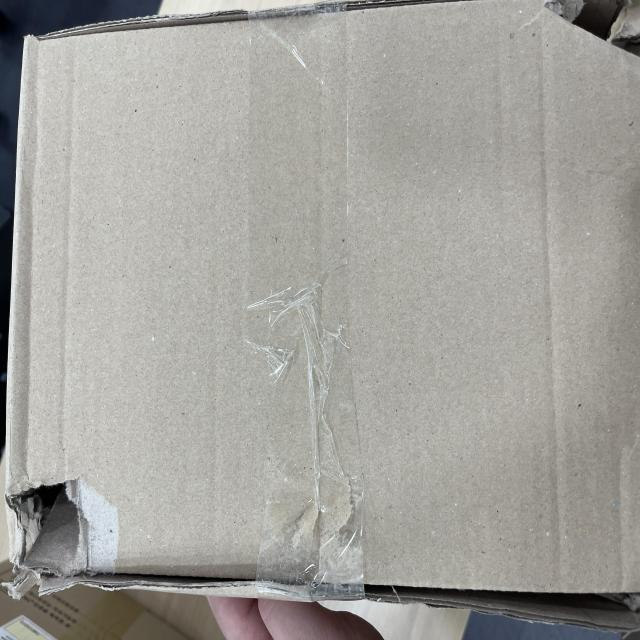damaged: (542, 68, 639, 163)
